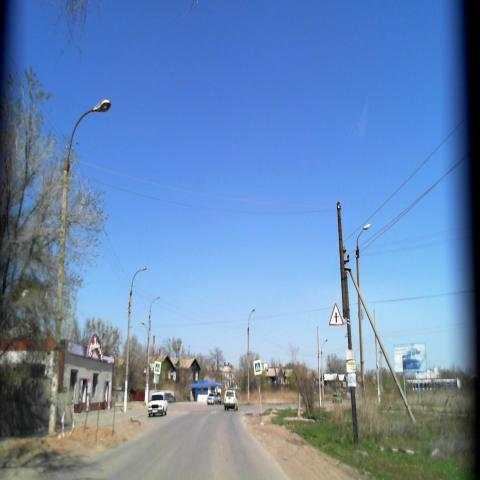2_3: (328, 302, 344, 326)
